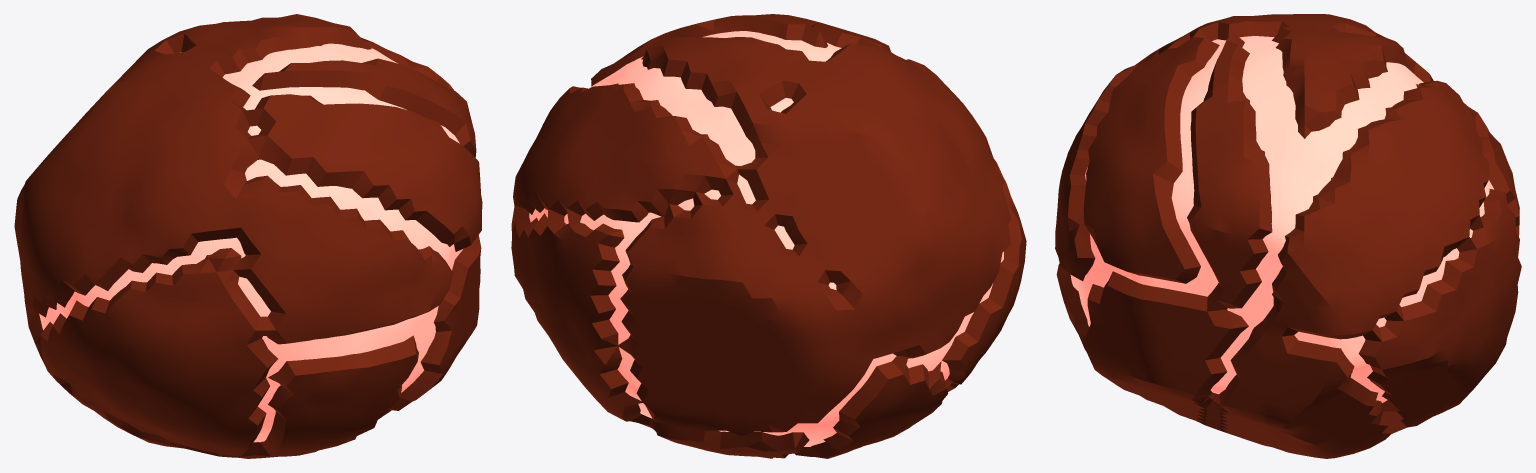
File: RockLava.fbx
3 views of the same model, side by side, from view 1: azimuth 30°, elevation 25°; view 2: azimuth 150°, elevation 25°; view 3: azimuth 270°, elevation 25° (orthographic).
Visible parts, largest first — view 1: RockLava_Crust, RockLava_Glow; view 2: RockLava_Crust, RockLava_Glow; view 3: RockLava_Crust, RockLava_Glow.
Part boxes in pixels (<box>): RockLava_Crust: <box>14,14,482,458</box>; RockLava_Glow: <box>39,43,462,442</box>; RockLava_Crust: <box>511,14,1026,458</box>; RockLava_Glow: <box>529,31,1003,446</box>; RockLava_Crust: <box>1055,14,1521,458</box>; RockLava_Glow: <box>1070,36,1493,402</box>.
Size of the model in its own units: 229 by 194 by 208.
